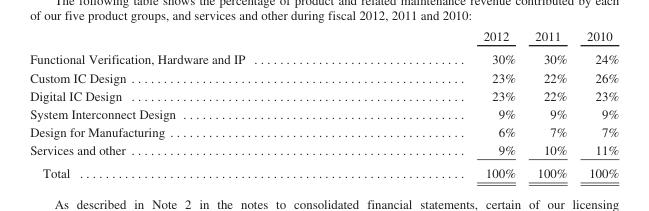table: (29, 28, 618, 179)
table column: (29, 28, 363, 179), (363, 28, 524, 179), (524, 28, 576, 179), (576, 28, 618, 179)
table column header: (29, 28, 618, 47)
table row: (29, 47, 618, 68), (29, 140, 618, 161), (29, 28, 618, 47), (29, 68, 618, 86), (29, 86, 618, 104), (29, 104, 618, 122), (29, 122, 618, 140), (29, 161, 618, 179)
